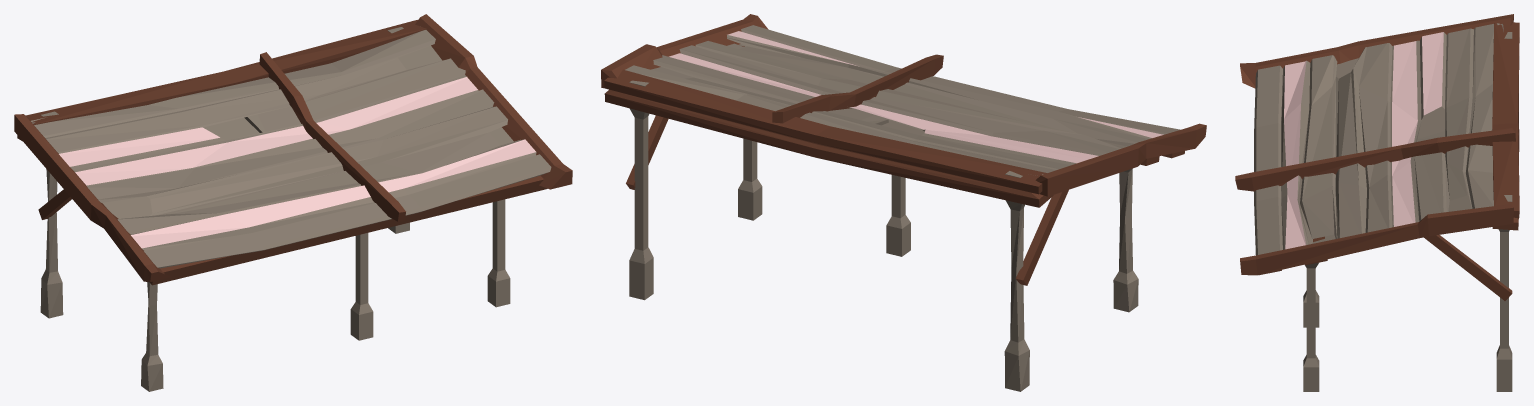
The model's file is SM_Bld_Shanty_SideAttachment_04.glb.
3 views of the same model, side by side, from view 1: azimuth 30°, elevation 25°; view 2: azimuth 150°, elevation 25°; view 3: azimuth 270°, elevation 25° (orthographic). The views are drawn at different scales.
Visible parts, largest first — view 1: SM_Bld_Shanty_SideAttachment_04_00; view 2: SM_Bld_Shanty_SideAttachment_04_00; view 3: SM_Bld_Shanty_SideAttachment_04_00.
Boxes of the visible parts, x1,y1,x2,y2 form: SM_Bld_Shanty_SideAttachment_04_00: (14, 14, 572, 391); SM_Bld_Shanty_SideAttachment_04_00: (601, 14, 1206, 391); SM_Bld_Shanty_SideAttachment_04_00: (1235, 14, 1519, 391).
Size of the model in its own units: 5.58 by 2.59 by 3.39.
Materials: 1 (1 with a texture image).
